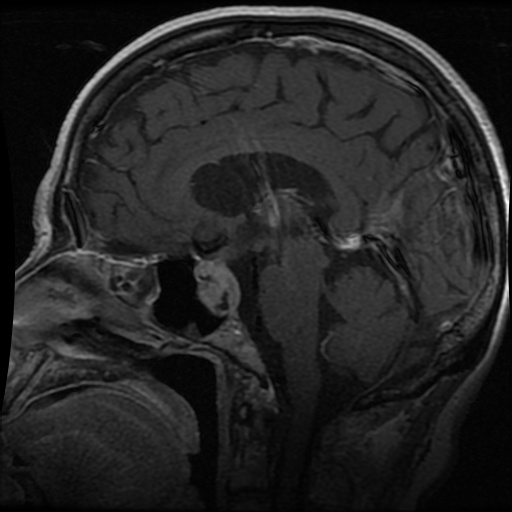pituitary: (194, 258, 238, 318)
